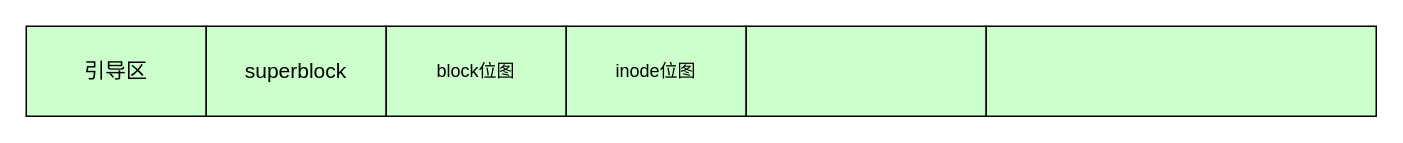
Some shapes in this 1403 by 143 pixel diagram are drawn without their labels. Each missing label, with the centre of its shape:
"inode列表" belongs at (865,70).
"数据块" belongs at (1180,70).
